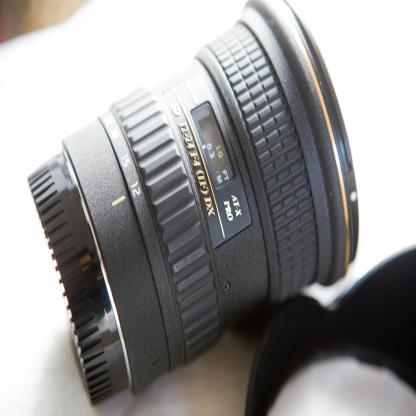Camera: (26, 1, 360, 411)
